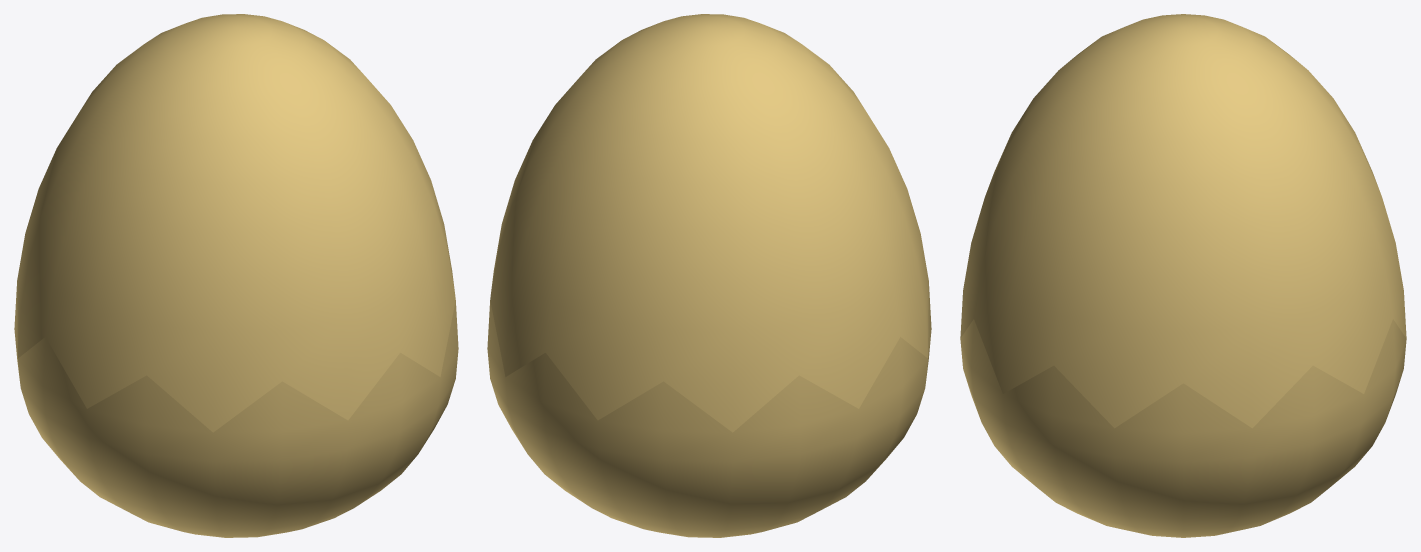
The model's file is HuevoRoto.fbx.
3 views of the same model, side by side, from view 1: azimuth 30°, elevation 25°; view 2: azimuth 150°, elevation 25°; view 3: azimuth 270°, elevation 25° (orthographic).
Parts seen in each view (by area): view 1: CascaraArriba, CascaraAbajo; view 2: CascaraArriba, CascaraAbajo; view 3: CascaraArriba, CascaraAbajo.
Part boxes in pixels (bbox=[...]): CascaraArriba: bbox=[17, 14, 455, 432]; CascaraAbajo: bbox=[14, 281, 458, 537]; CascaraArriba: bbox=[490, 14, 928, 432]; CascaraAbajo: bbox=[487, 281, 931, 537]; CascaraArriba: bbox=[960, 14, 1406, 428]; CascaraAbajo: bbox=[960, 319, 1406, 537].
Bounding box in the file's own units: 28.4 × 34.13 × 28.4.
3 materials, 3 textured.
